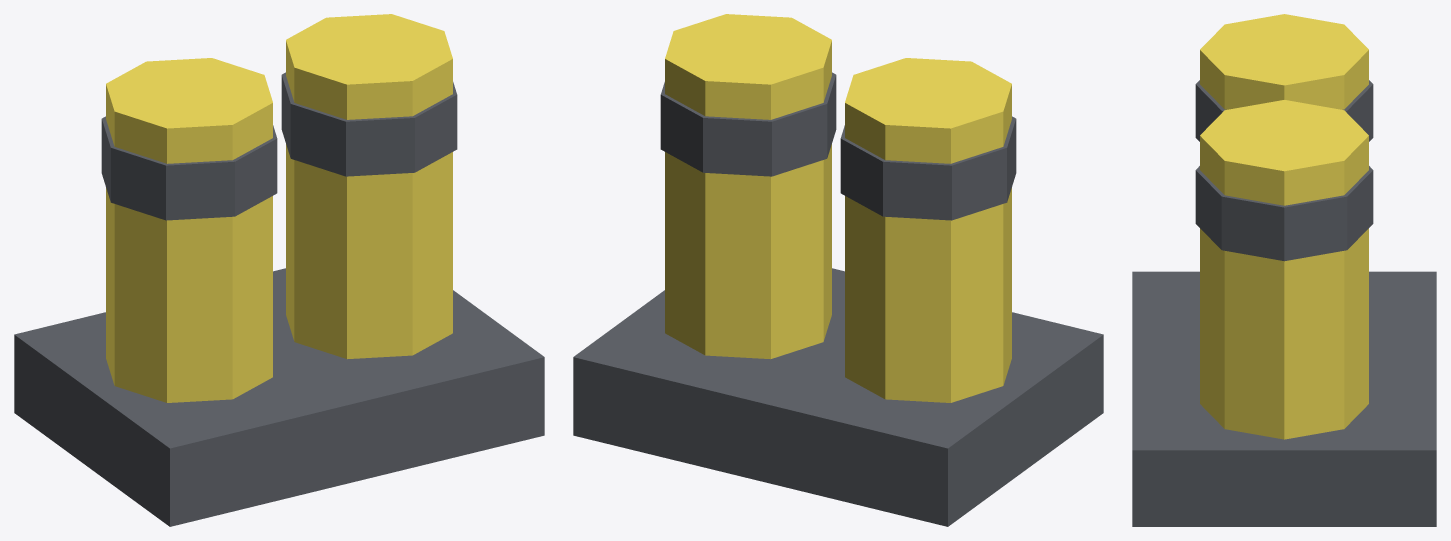
The model's file is battery_small.glb.
3 renders of one model, left to right at view 1: azimuth 30°, elevation 25°; view 2: azimuth 150°, elevation 25°; view 3: azimuth 270°, elevation 25°, orthographic. The views are drawn at different scales.
Parts seen in each view (by area): view 1: battery_small; view 2: battery_small; view 3: battery_small.
Part boxes in pixels (bbox=[...]): battery_small: bbox=[14, 14, 544, 526]; battery_small: bbox=[573, 14, 1103, 526]; battery_small: bbox=[1132, 14, 1436, 526].
Size of the model in its own units: 0.5 by 0.45 by 0.36.
